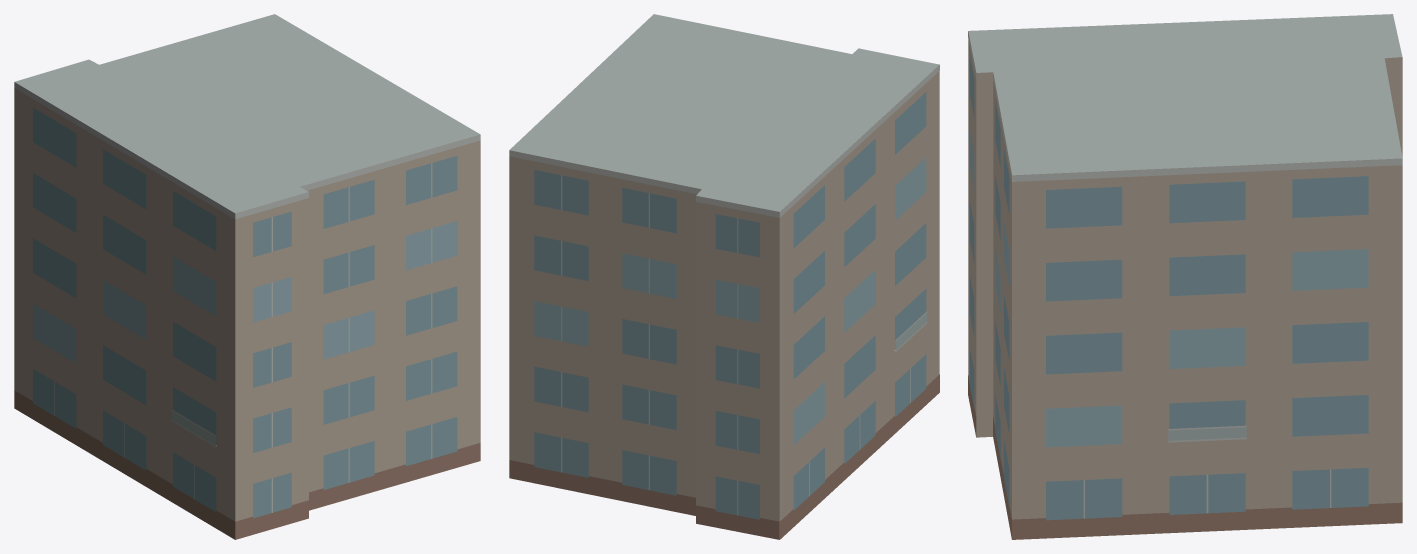
The model's file is survey-upis-32988572.glb.
3 renders of one model, left to right at view 1: azimuth 30°, elevation 25°; view 2: azimuth 150°, elevation 25°; view 3: azimuth 270°, elevation 25°, orthographic. The views are drawn at different scales.
Visible parts, largest first — view 1: survey-upis-32988572.tmp; view 2: survey-upis-32988572.tmp; view 3: survey-upis-32988572.tmp.
Boxes of the visible parts, <box> form: survey-upis-32988572.tmp: <box>14,14,480,539</box>; survey-upis-32988572.tmp: <box>509,14,939,539</box>; survey-upis-32988572.tmp: <box>968,14,1402,539</box>.
Bounding box in the file's own units: 12.63 × 13.3 × 14.37.
